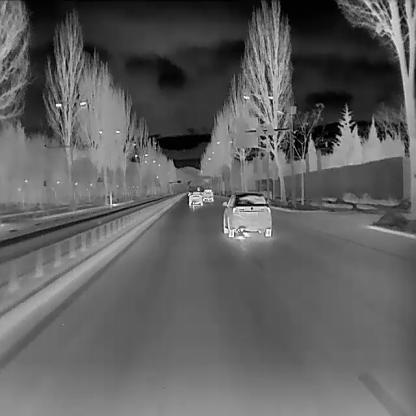car: (220, 190, 272, 238), (186, 191, 202, 205), (201, 187, 214, 201), (187, 189, 191, 196), (196, 185, 199, 190)
